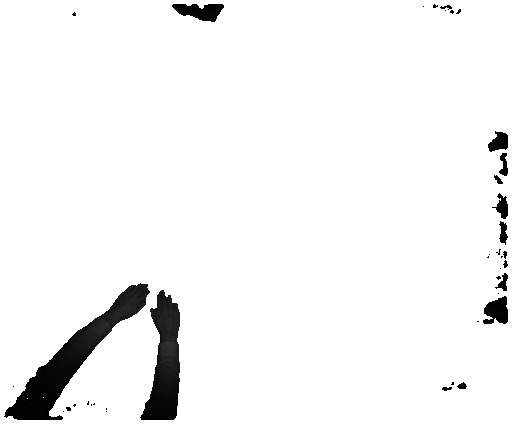hand: (108, 282, 152, 326), (152, 291, 183, 341)
